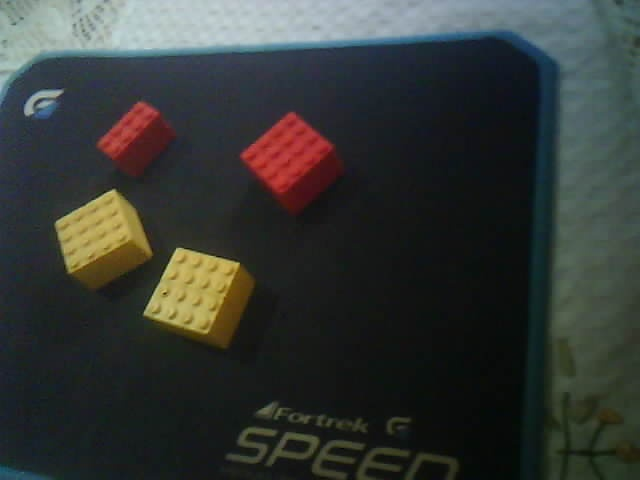lego: (142, 246, 257, 354), (238, 111, 345, 217), (52, 189, 154, 292), (95, 100, 175, 177)
